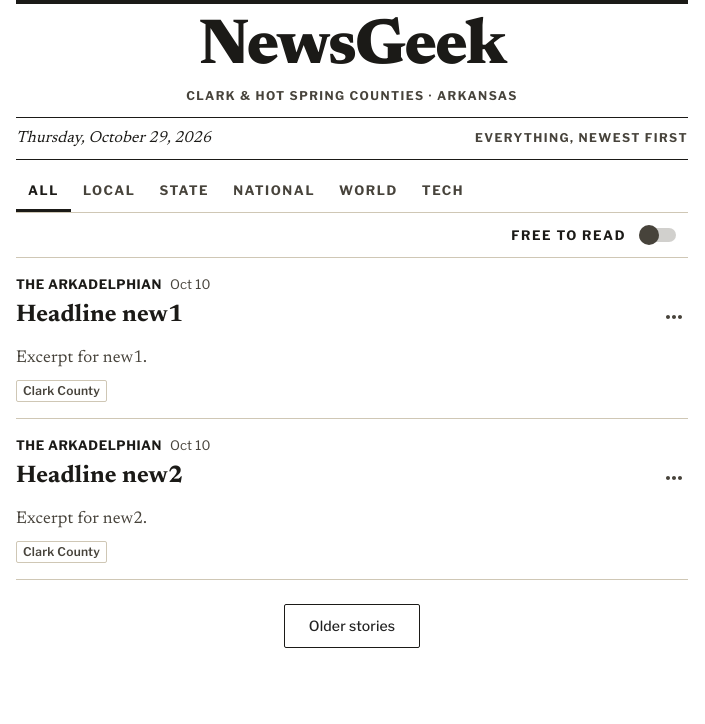
Test: Latest › "Older stories" asks for the next page with before = nextBefore and appends it
Step 1. Click the button "Older stories" → (352, 626), box [284,604,420,648]
(page scrolled)
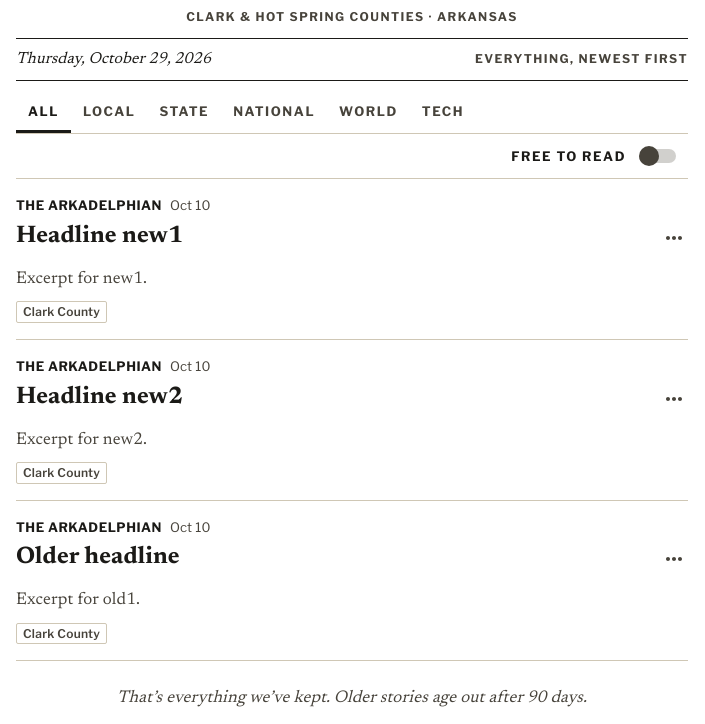
Now the link "Older headline (opens at The Arkadelphian, in a new tab)" is shown, box [16,545,180,569]
Now the number of elements with test id "article" is 3, box [16,179,688,340]; [16,340,688,501]; [16,500,688,661]
Now the text "That’s everything we’ve kept" is shown, box [117,690,587,707]
